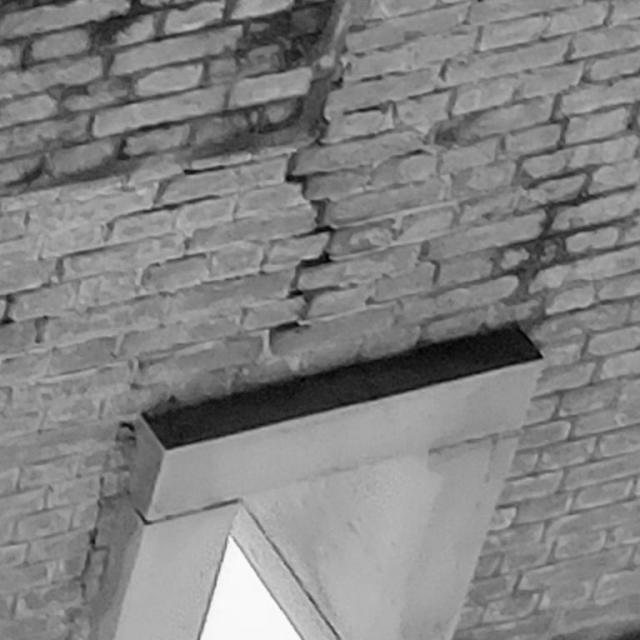crack: (270, 151, 335, 354), (74, 422, 135, 598)
